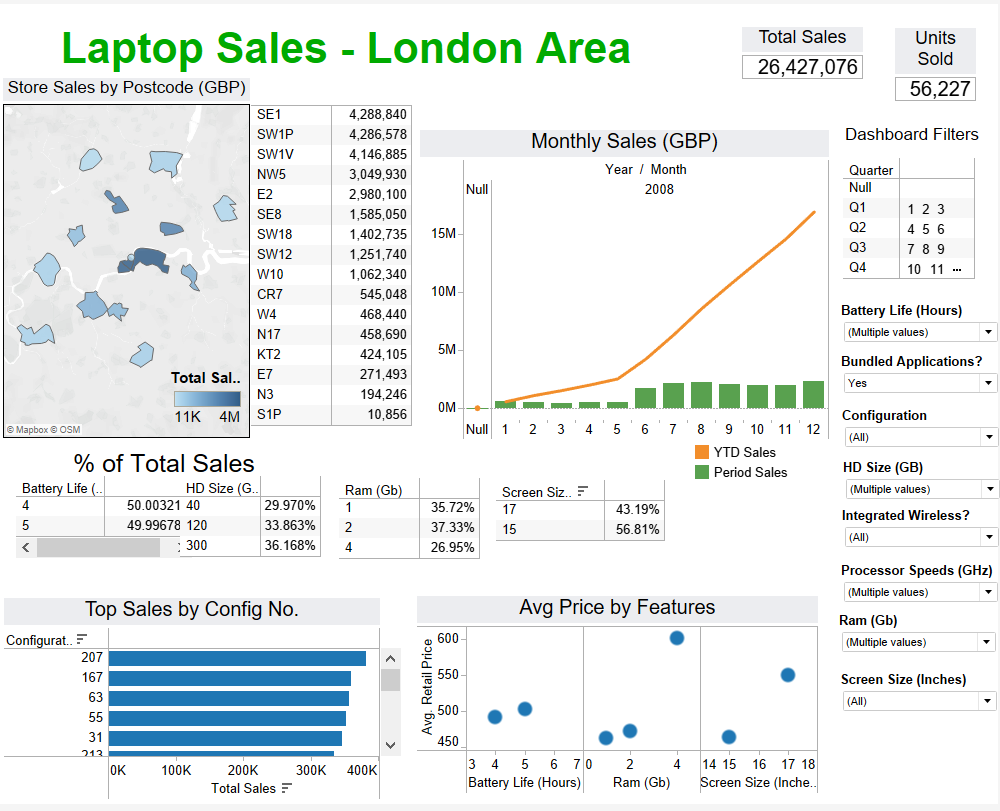

What the dashboard file says about the page in this screenshot:
{"tool":"tableau","page":{"name":"Laptop Sales","canvas":[1000,800],"ordinal":0},"visuals":[{"type":"text","box":[0,0,1000,800]},{"type":"text","box":[10,11,676,67]},{"type":"worksheet","title":"Total Sales","mark":"Automatic","box":[744,23,138,71]},{"type":"worksheet","title":"Units Sold","mark":"Automatic","box":[897,24,89,83]},{"type":"worksheet","title":"Sales by Store Postcode","mark":"Multipolygon","box":[5,74,247,360]},{"type":"worksheet","title":"Sales Val by Store Postcode","mark":"Automatic","rows":["Store Postcode"],"box":[253,101,164,324]},{"type":"text","box":[823,115,182,30]},{"type":"worksheet","title":"Monthly Sales","mark":"Line","rows":["Retail Price","Retail Price"],"cols":["Calculation_825847630528401410","Calculation_825847630528598019"],"box":[422,126,409,310]},{"type":"worksheet","title":"Quarters","mark":"Automatic","box":[845,154,143,135]},{"type":"filter","title":"Monthly Sales","param":"[federated.1dh7a311serdsw1fph2bi073hzrv].[none:Battery Life (Hours):ok]","box":[843,299,160,44]},{"type":"filter","title":"Monthly Sales","param":"[federated.1dh7a311serdsw1fph2bi073hzrv].[none:Bundled Applications?:nk]","box":[843,350,160,44]},{"type":"legend","title":"Sales by Store Postcode","param":"[federated.1dh7a311serdsw1fph2bi073hzrv].[sum:Retail Price:qk]","box":[172,365,75,64]},{"type":"filter","title":"Monthly Sales","param":"[federated.1dh7a311serdsw1fph2bi073hzrv].[none:Configuration:ok]","box":[844,404,160,44]},{"type":"legend","title":"Monthly Sales","param":"[federated.1dh7a311serdsw1fph2bi073hzrv].[:Measure Names]","box":[694,438,140,58]},{"type":"text","box":[13,444,306,30]},{"type":"filter","title":"Monthly Sales","param":"[federated.1dh7a311serdsw1fph2bi073hzrv].[none:HD Size (GB):ok]","box":[845,456,160,44]},{"type":"worksheet","title":"% Total Sales -Battery Life","mark":"Text","rows":["Battery Life (Hours)"],"box":[18,472,176,92]},{"type":"worksheet","title":"% Total Sales -HD Size","mark":"Text","rows":["HD Size (GB)"],"box":[182,472,172,111]},{"type":"worksheet","title":"% Total Sales - RAM (Gb)","mark":"Text","rows":["RAM (GB)"],"box":[341,474,156,94]},{"type":"worksheet","title":"% Total Sales -Screen size","mark":"Text","rows":["Screen Size (Inches)"],"box":[498,476,169,74]},{"type":"filter","title":"Monthly Sales","param":"[federated.1dh7a311serdsw1fph2bi073hzrv].[none:Integrated Wireless?:nk]","box":[844,504,160,44]},{"type":"filter","title":"Monthly Sales","param":"[federated.1dh7a311serdsw1fph2bi073hzrv].[none:Processor Speeds (GHz):ok]","box":[843,559,160,44]},{"type":"worksheet","title":"Avg Price by Features","mark":"Circle","rows":["Retail Price"],"cols":["Battery Life (Hours)","RAM (GB)","Screen Size (Inches)"],"box":[419,592,401,198]},{"type":"worksheet","title":"Sales by Config No.","mark":"Automatic","rows":["Configuration"],"cols":["Retail Price"],"box":[6,594,397,202]},{"type":"filter","title":"Monthly Sales","param":"[federated.1dh7a311serdsw1fph2bi073hzrv].[none:RAM (GB):ok]","box":[841,609,160,48]},{"type":"filter","title":"Monthly Sales","param":"[federated.1dh7a311serdsw1fph2bi073hzrv].[none:Screen Size (Inches):ok]","box":[842,668,160,44]}]}

Visuals, with their boxes in screenshot pixels (x1, y1, x2, y2), scaled from the page's 1000x800 canvas onto the 1000x811 screenshot:
text: l=0, t=0, r=999, b=810
text: l=10, t=11, r=686, b=79
"Total Sales" worksheet: l=744, t=23, r=882, b=95
"Units Sold" worksheet: l=897, t=24, r=986, b=108
"Sales by Store Postcode" worksheet (Multipolygon marks): l=5, t=75, r=252, b=440
"Sales Val by Store Postcode" worksheet: l=253, t=102, r=417, b=431
text: l=823, t=117, r=999, b=147
"Monthly Sales" worksheet (Line marks): l=422, t=128, r=831, b=442
"Quarters" worksheet: l=845, t=156, r=988, b=293
"Monthly Sales" filter: l=843, t=303, r=999, b=348
"Monthly Sales" filter: l=843, t=355, r=999, b=399
"Sales by Store Postcode" legend: l=172, t=370, r=247, b=435
"Monthly Sales" filter: l=844, t=410, r=999, b=454
"Monthly Sales" legend: l=694, t=444, r=834, b=503
text: l=13, t=450, r=319, b=481
"Monthly Sales" filter: l=845, t=462, r=999, b=507
"% Total Sales -Battery Life" worksheet (Text marks): l=18, t=478, r=194, b=572
"% Total Sales -HD Size" worksheet (Text marks): l=182, t=478, r=354, b=591
"% Total Sales - RAM (Gb)" worksheet (Text marks): l=341, t=481, r=497, b=576
"% Total Sales -Screen size" worksheet (Text marks): l=498, t=483, r=667, b=558
"Monthly Sales" filter: l=844, t=511, r=999, b=556
"Monthly Sales" filter: l=843, t=567, r=999, b=611
"Avg Price by Features" worksheet (Circle marks): l=419, t=600, r=820, b=801
"Sales by Config No." worksheet: l=6, t=602, r=403, b=807
"Monthly Sales" filter: l=841, t=617, r=999, b=666
"Monthly Sales" filter: l=842, t=677, r=999, b=722
